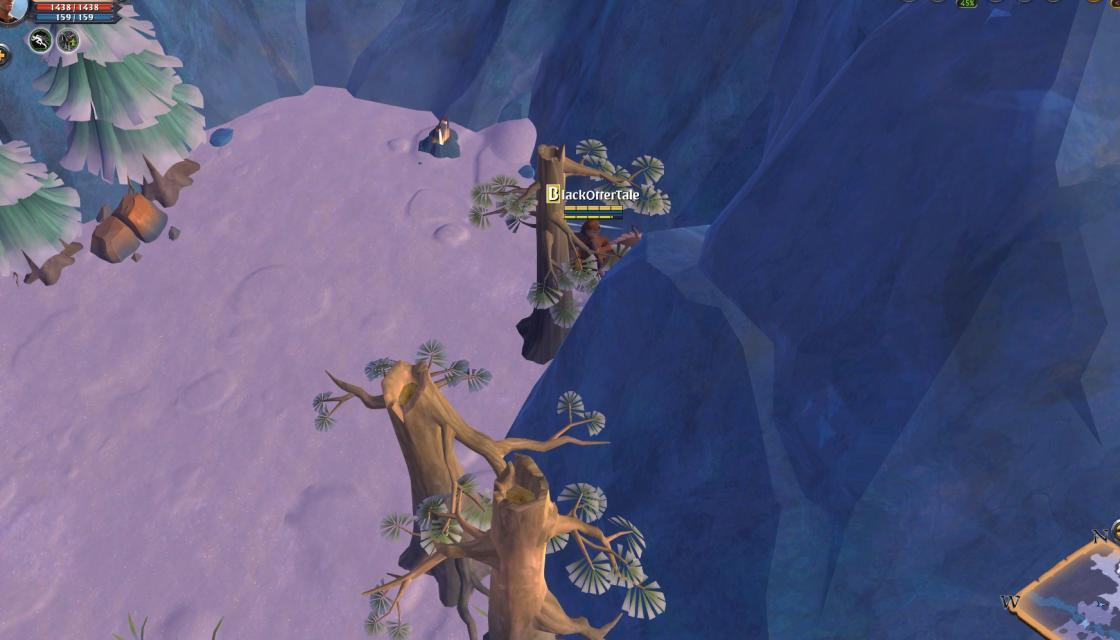copperore: (416, 115, 465, 161)
limestone: (83, 188, 173, 267)
